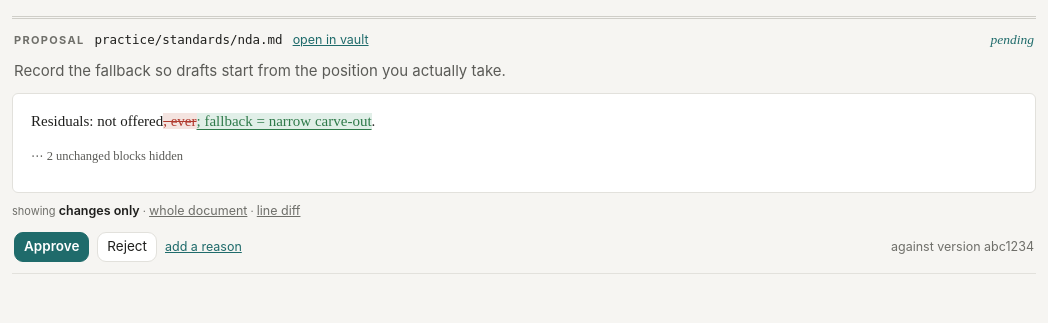
Test: the proposal slip › whole document and line diff are one click away, and changes-only comes back
The width and height of the screenshot is (1048, 323).
Click the button "whole document". click: (198, 211)
box: x1=149 y1=201 x2=247 y2=221
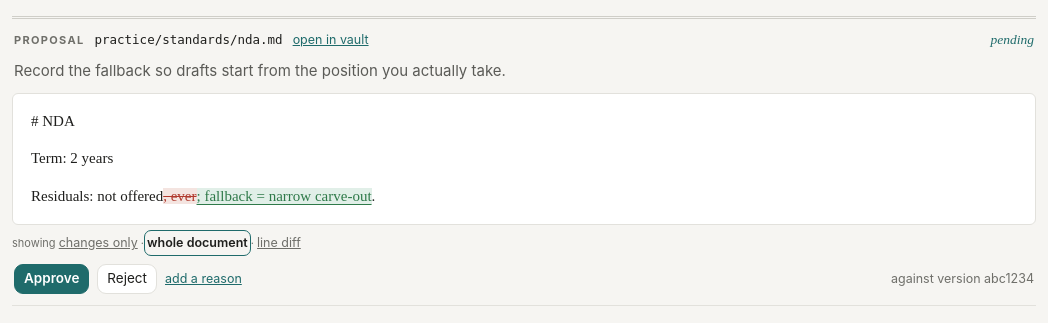
Now the element that starts with "# NDA" shows "Term: 2 years", box x1=31 y1=150 x2=113 y2=166
Click the button "line diff". click: (279, 243)
box: x1=257 y1=233 x2=301 y2=253
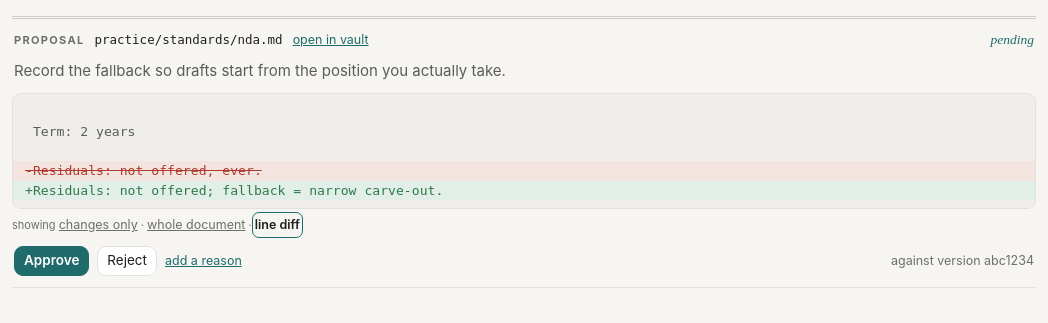
Now the element that starts with "Term: 2 years" is shown, box x1=12 y1=93 x2=1036 y2=209
Click the button "changes only". click: (98, 225)
box: x1=59 y1=215 x2=138 y2=235
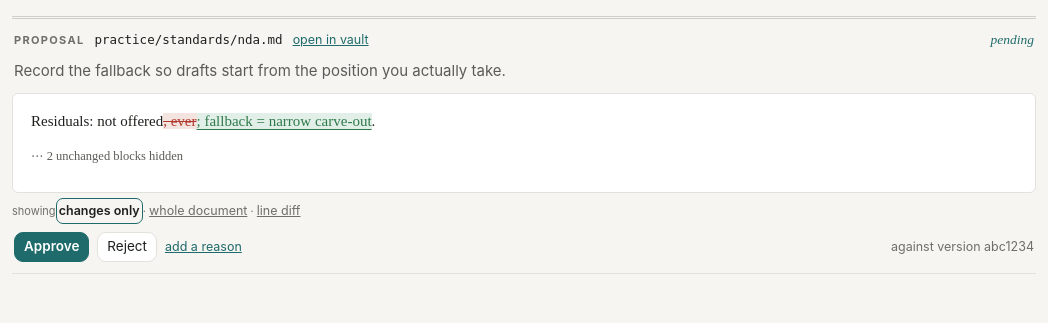
Now the text "Term: 2 years" is gone
